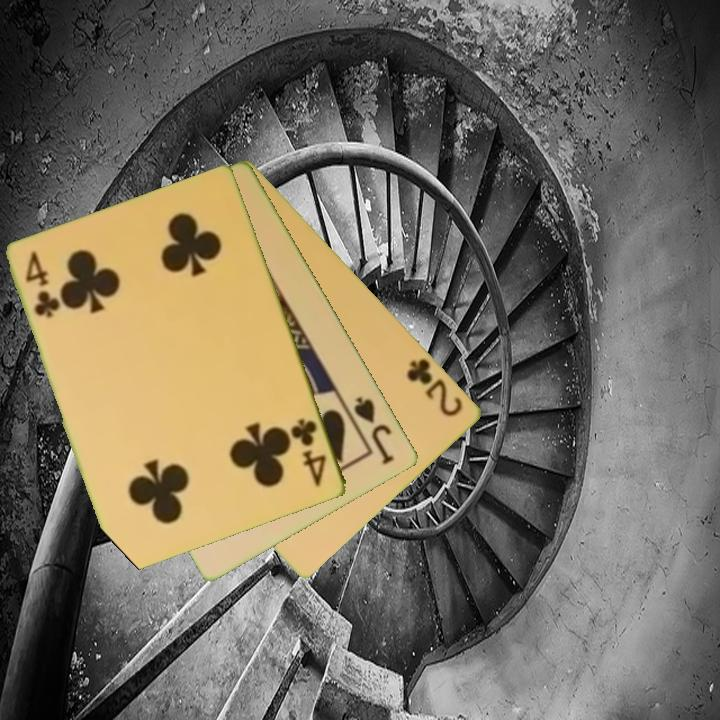2c: (403, 354, 466, 420)
4c: (287, 415, 330, 490), (22, 248, 61, 321)
Js: (351, 393, 398, 468)
